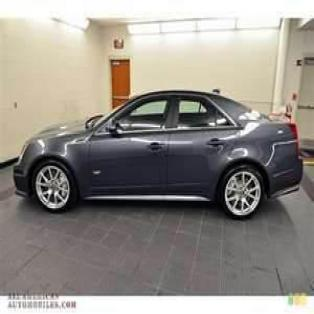Auto: (15, 88, 302, 219)
